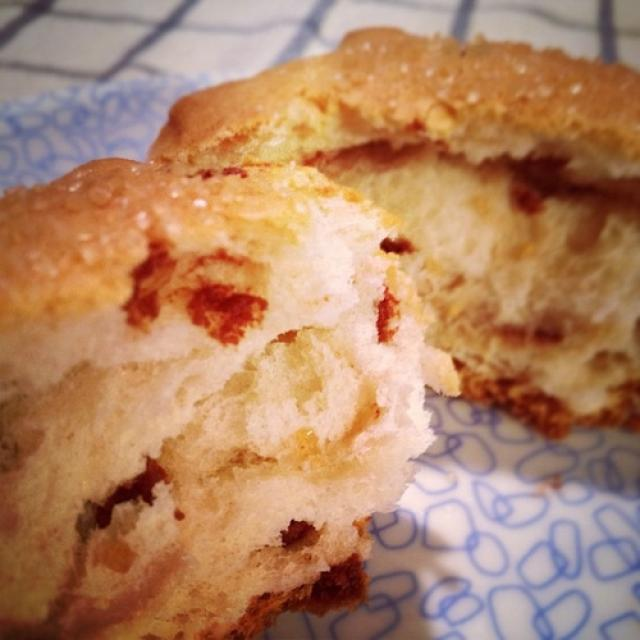面包点心: (11, 18, 626, 618)
